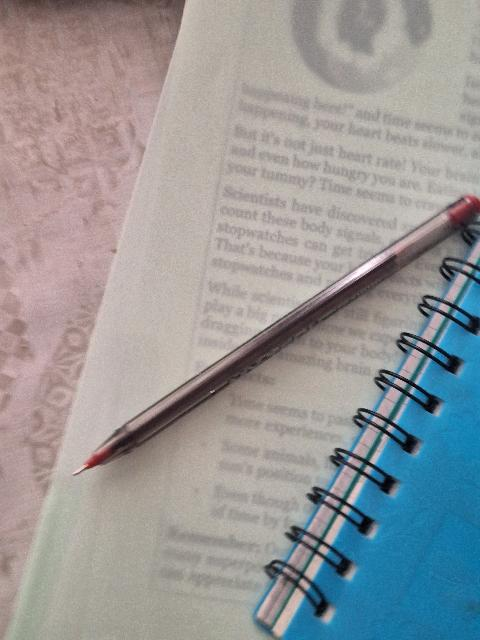writing_tool: (69, 195, 480, 477)
